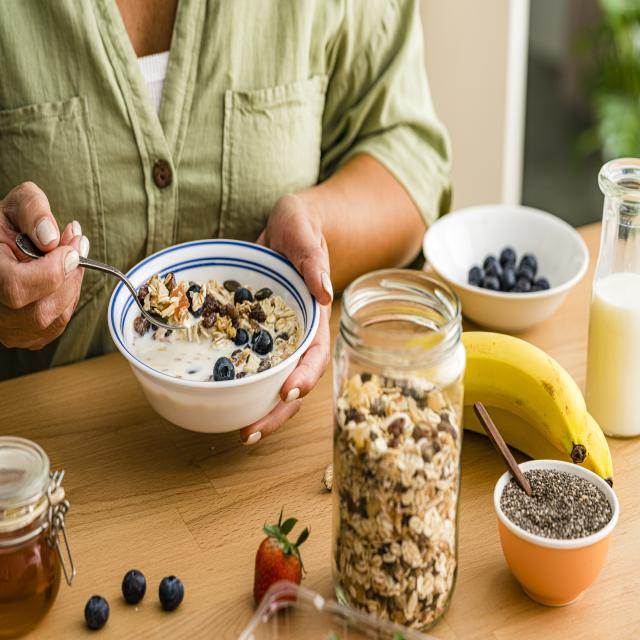avena: (115, 260, 305, 390)
